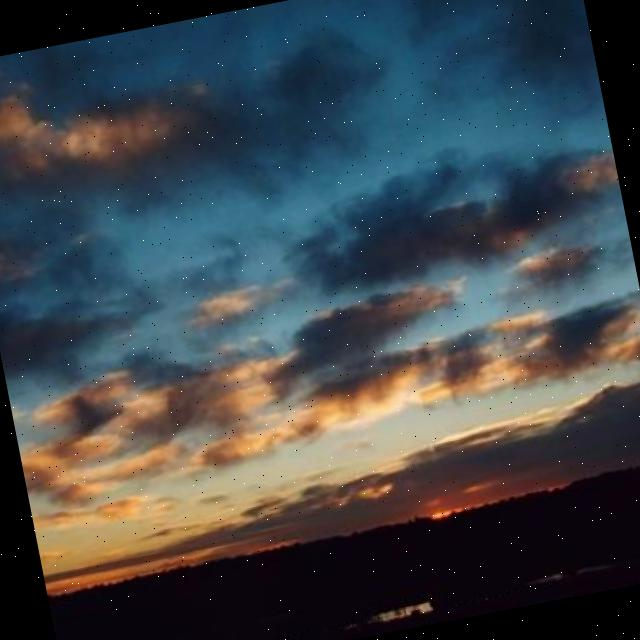As: (1, 130, 640, 502)
